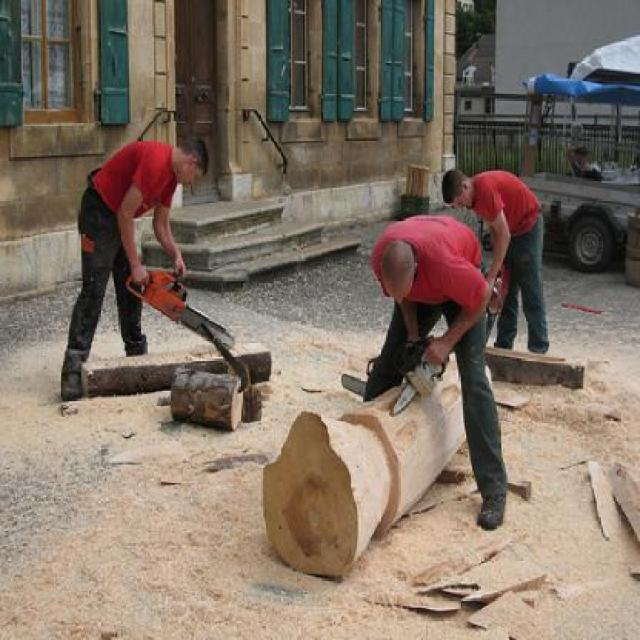Chainsaw: (123, 260, 237, 355), (389, 334, 451, 417)
